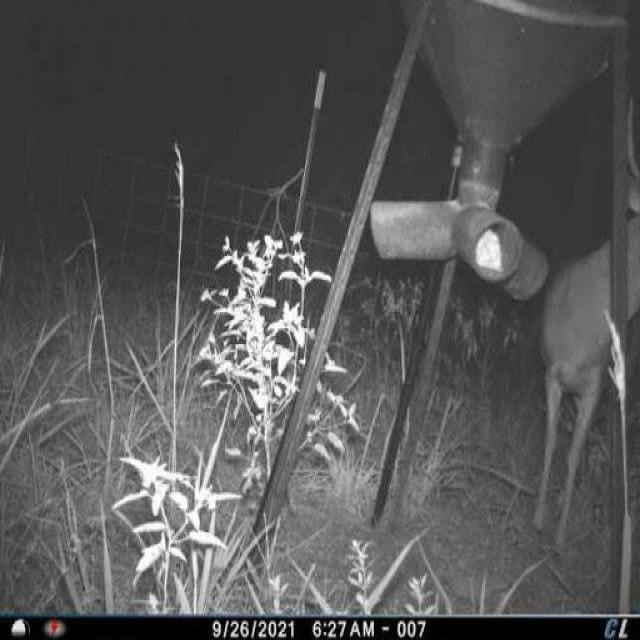deer: (539, 87, 640, 569)
